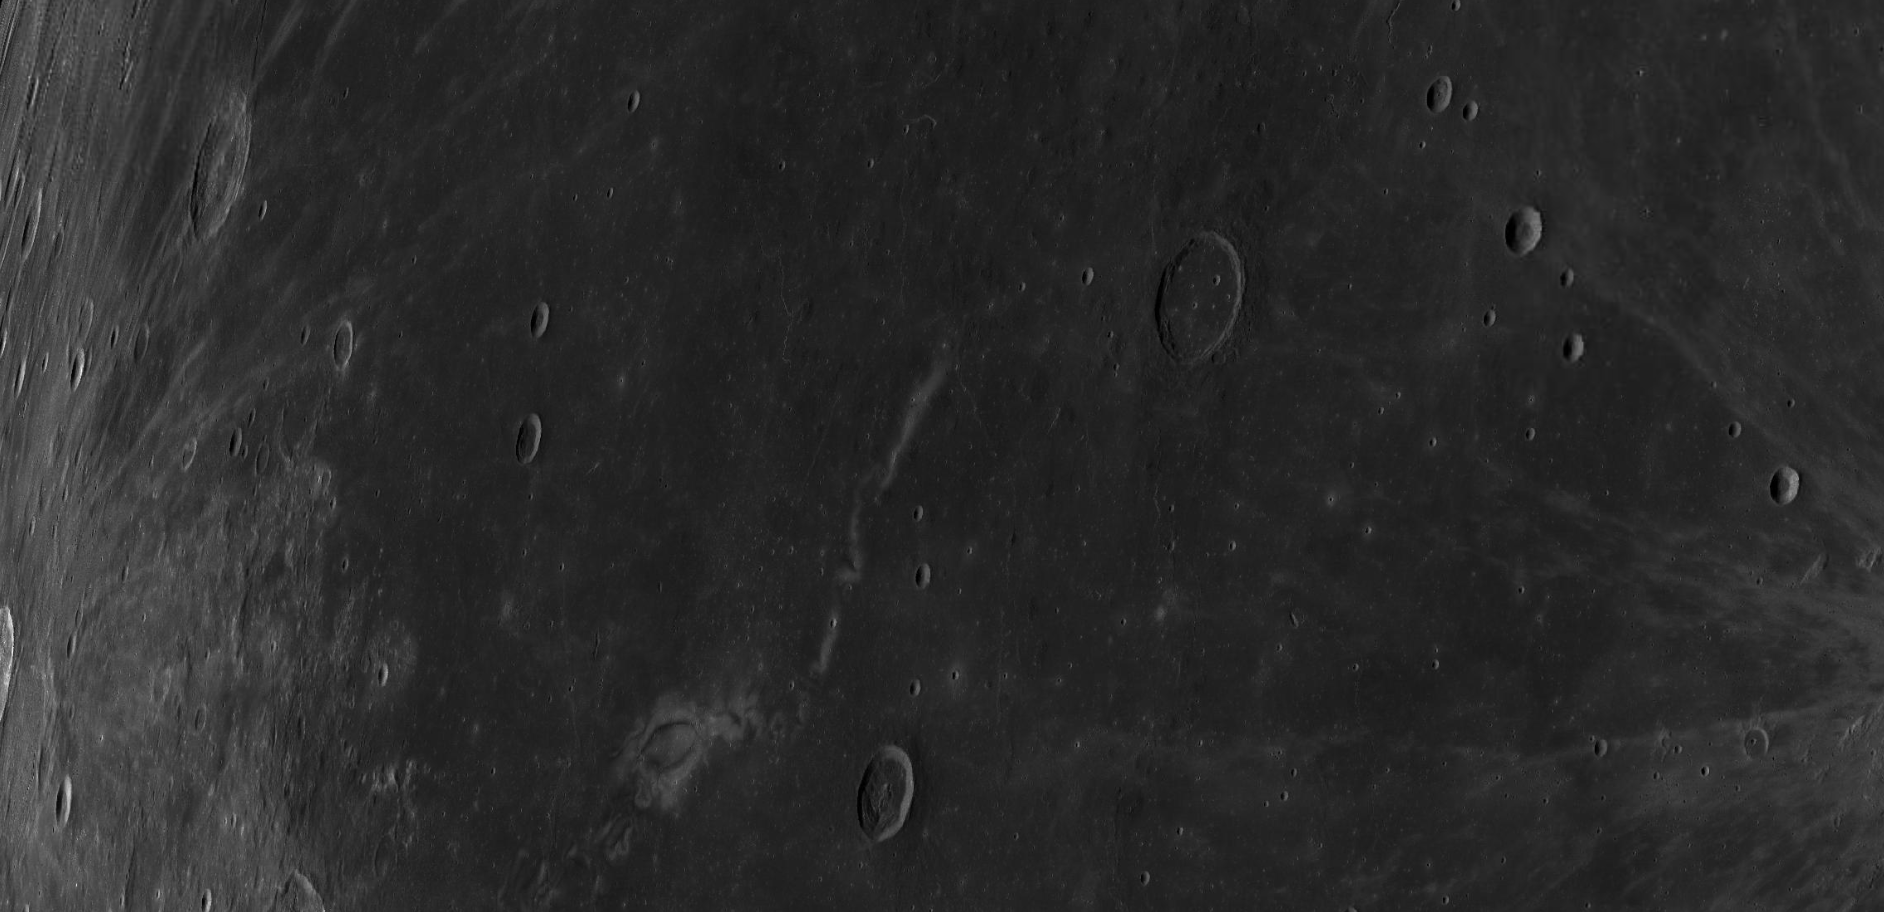crater: (1135, 205, 1276, 435), (180, 81, 261, 284), (836, 731, 943, 865), (1751, 437, 1840, 541), (490, 409, 580, 485), (883, 536, 950, 632), (609, 61, 680, 147), (513, 284, 588, 363), (1491, 184, 1554, 270), (43, 755, 99, 850), (1411, 59, 1460, 129)
